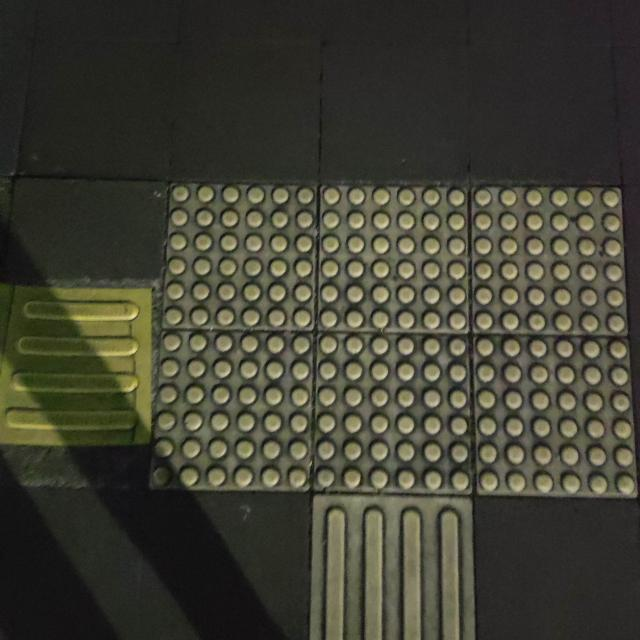kiri: (0, 170, 512, 640)
